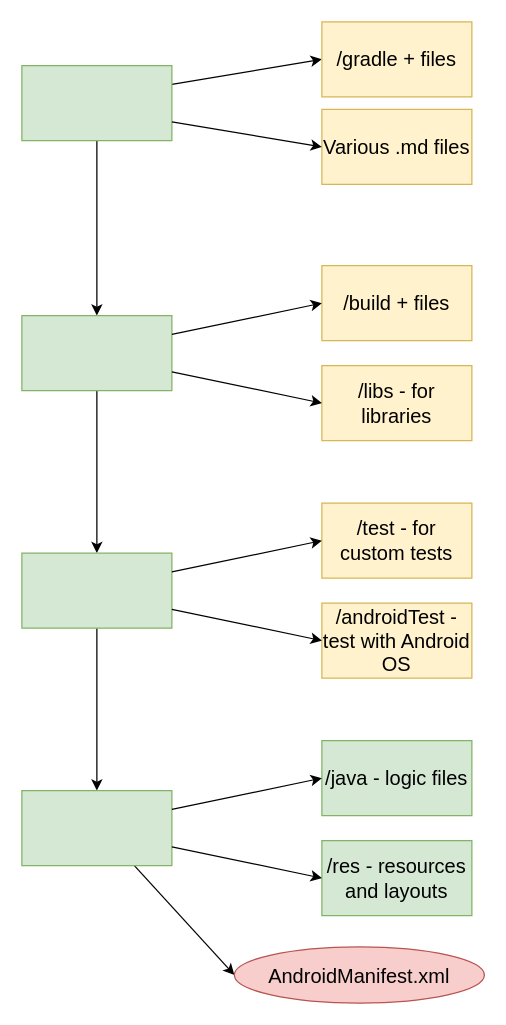
Some shapes in this 506 by 1025 pixel diagram are drawn without their labels. Each missing label, with the box of its shape:
/app: (21, 314, 172, 391)
/main: (21, 789, 172, 866)
/src: (21, 552, 172, 628)
Project folder: (21, 64, 172, 141)
